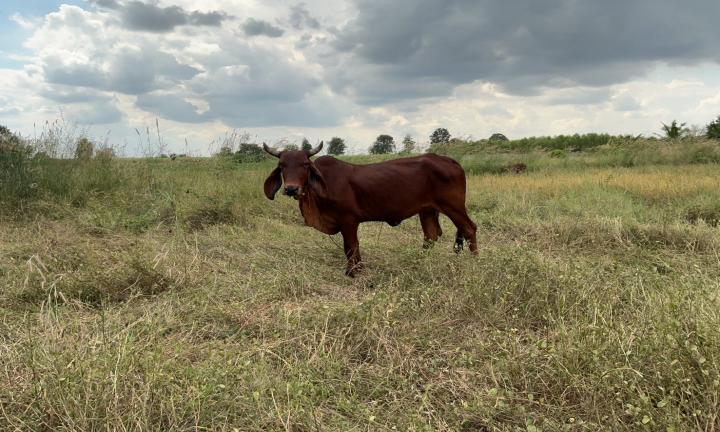Brahman: (263, 142, 476, 275)
